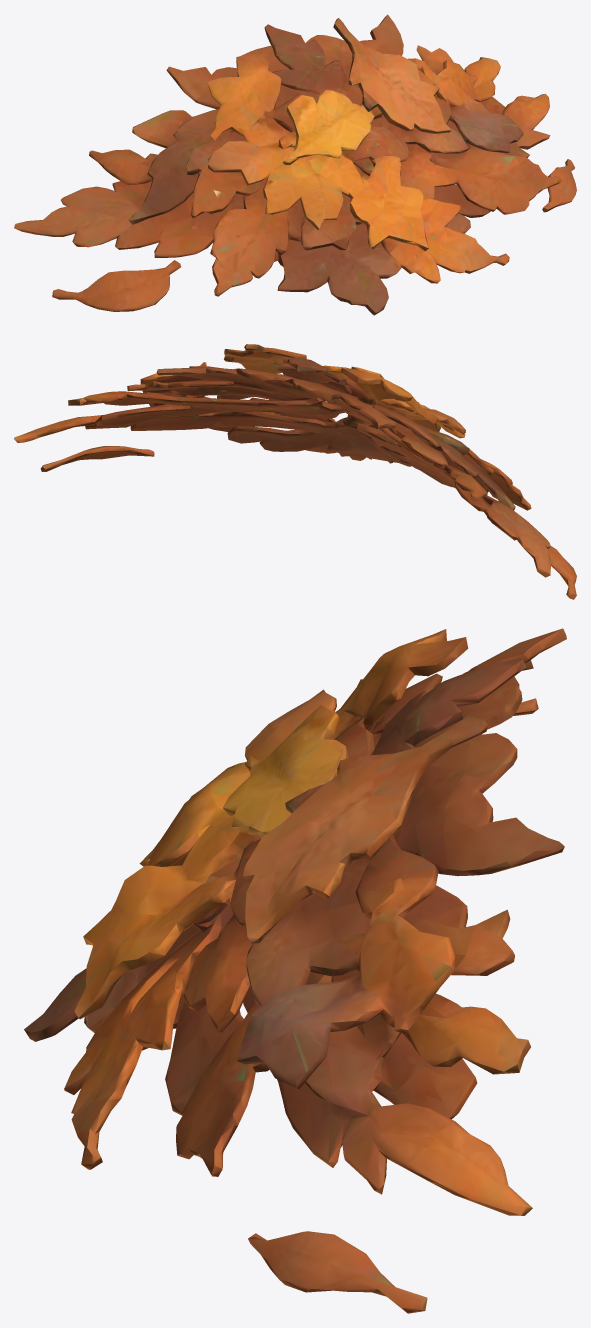
The model's file is hojas_caidas.glb.
The picture shows the model from 3 angles, top to bottom: view 1: azimuth 30°, elevation 25°; view 2: azimuth 150°, elevation 25°; view 3: azimuth 270°, elevation 25°; orthographic projection. The views are drawn at different scales.
Parts seen in each view (by area): view 1: hojas_caidas_malla; view 2: hojas_caidas_malla; view 3: hojas_caidas_malla.
Part boxes in pixels (x1,y1,x2,y2): hojas_caidas_malla: (14, 14, 576, 315); hojas_caidas_malla: (14, 344, 576, 599); hojas_caidas_malla: (24, 628, 566, 1313).
Size of the model in its own units: 0.4866 by 0.1721 by 0.215.
1 material, 1 textured.
